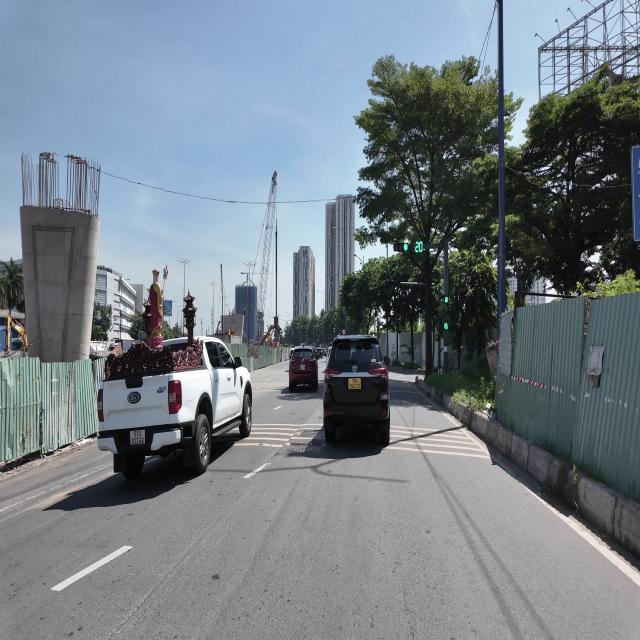car: (98, 338, 252, 477), (324, 336, 389, 446), (289, 346, 318, 391), (315, 347, 322, 359)
